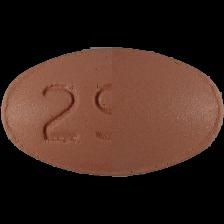53808-0936: (0, 0, 224, 224)
